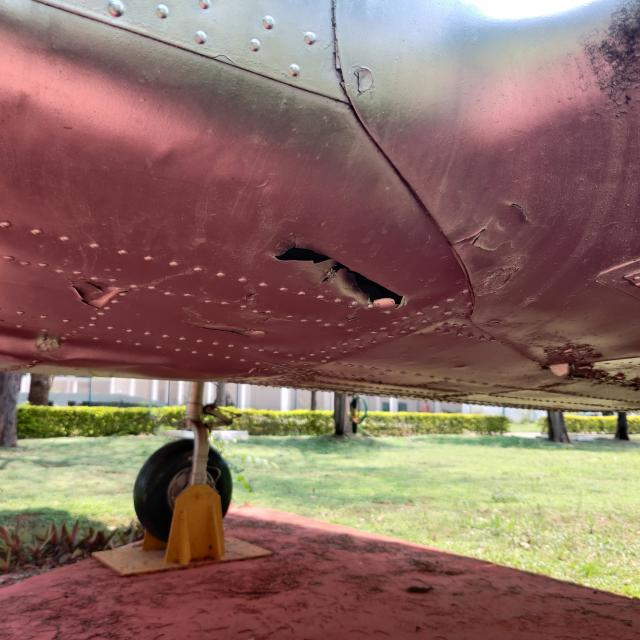crack: (262, 224, 419, 324)
dent: (138, 137, 183, 183)
paint-off: (174, 281, 277, 344), (60, 266, 136, 313), (480, 257, 522, 296)
